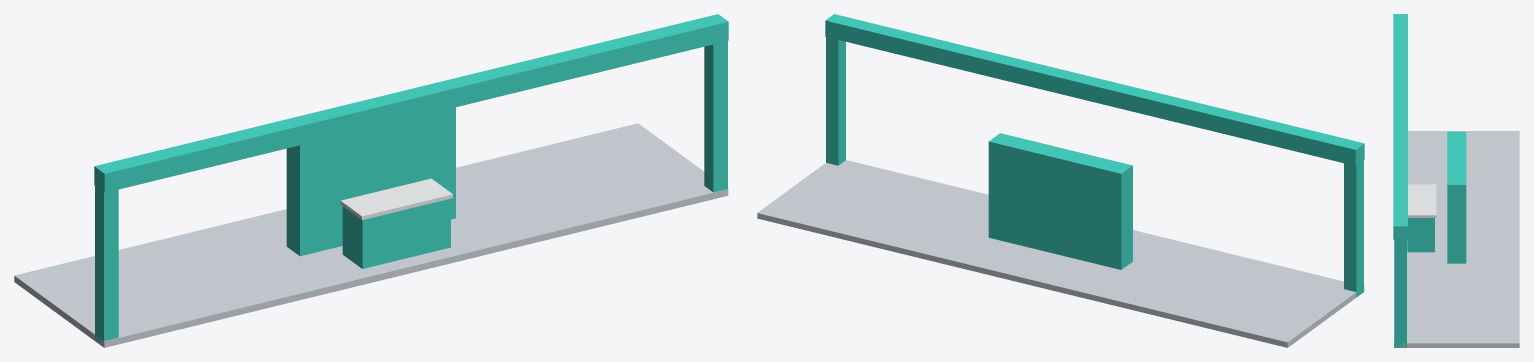
The picture shows the model from 3 angles, left to right: view 1: azimuth 30°, elevation 25°; view 2: azimuth 150°, elevation 25°; view 3: azimuth 270°, elevation 25°; orthographic projection. The views are drawn at different scales.
Visible parts, largest first — view 1: Exhibition Booth Concept; view 2: Exhibition Booth Concept; view 3: Exhibition Booth Concept.
Part boxes in pixels (x1,y1,x2,y2): Exhibition Booth Concept: (14, 14, 728, 347); Exhibition Booth Concept: (757, 14, 1364, 347); Exhibition Booth Concept: (1393, 14, 1519, 347).
Bounding box in the file's own units: 12 × 3.2 × 3.01.
